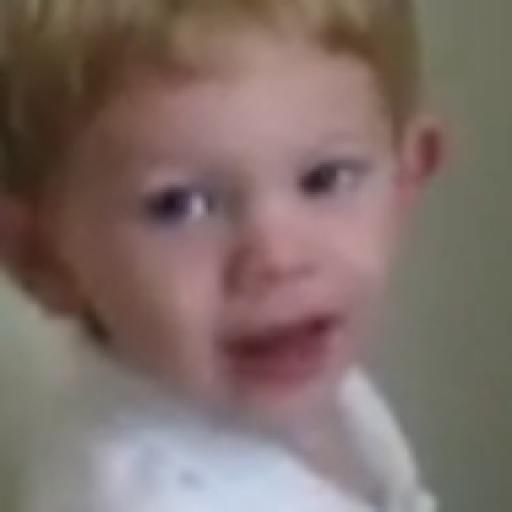Autism: (12, 0, 459, 430)
